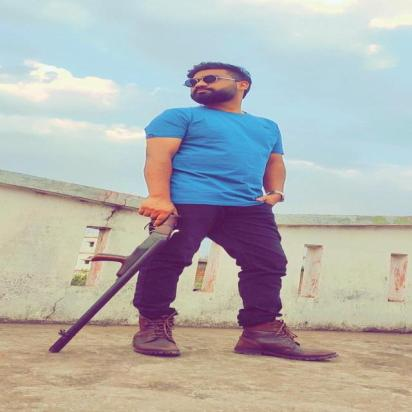Gun: (46, 206, 186, 354)
